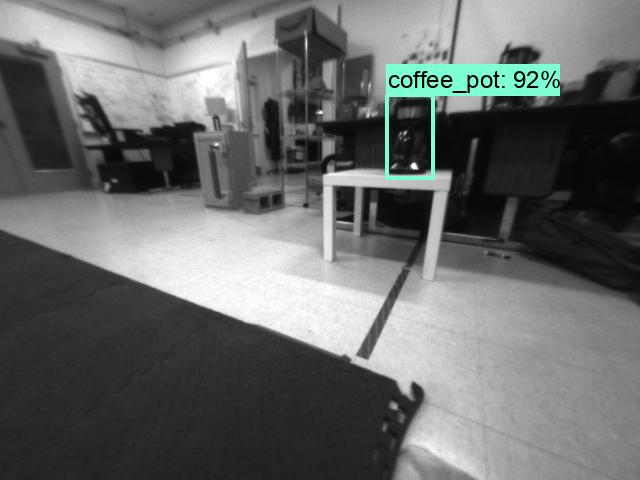coffee_pot: (387, 98, 436, 174)
